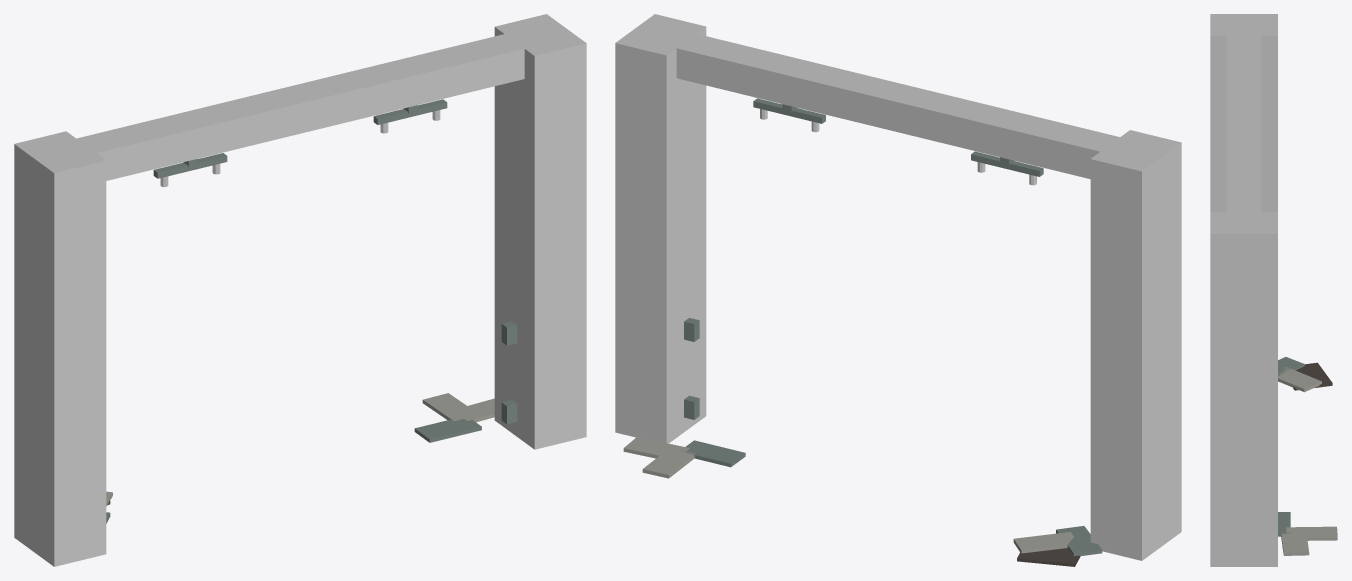
The model's file is SM_PuertaViaDoble_v4_Blindada_e3_Brecha_LOD0.fbx.
3 renders of one model, left to right at view 1: azimuth 30°, elevation 25°; view 2: azimuth 150°, elevation 25°; view 3: azimuth 270°, elevation 25°, orthographic. The views are drawn at different scales.
Parts seen in each view (by area): view 1: SM_puerta_via_doble_v19_LOD0, Hoja_E; view 2: SM_puerta_via_doble_v19_LOD0, Hoja_E; view 3: SM_puerta_via_doble_v19_LOD0.
Boxes of the visible parts, x1,y1,x2,y2 form: SM_puerta_via_doble_v19_LOD0: (14, 14, 586, 566); Hoja_E: (501, 321, 517, 424); SM_puerta_via_doble_v19_LOD0: (615, 14, 1181, 566); Hoja_E: (684, 318, 699, 419); SM_puerta_via_doble_v19_LOD0: (1210, 14, 1337, 566).
Size of the model in its own units: 9.2 by 6.5 by 2.26.
